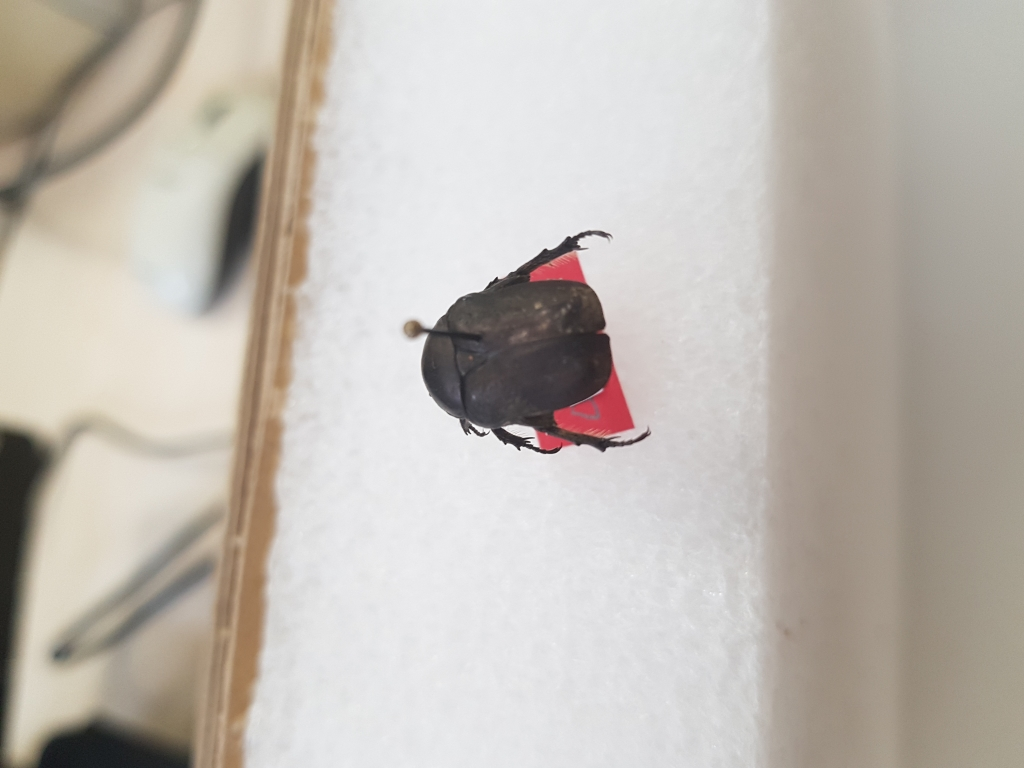Protaetia_asiatica: (412, 223, 655, 465)
